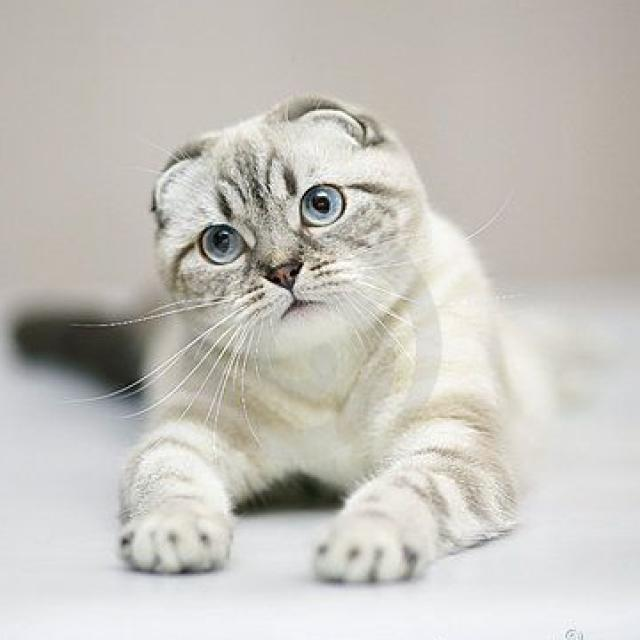Scottish Fold: (111, 86, 557, 588)
